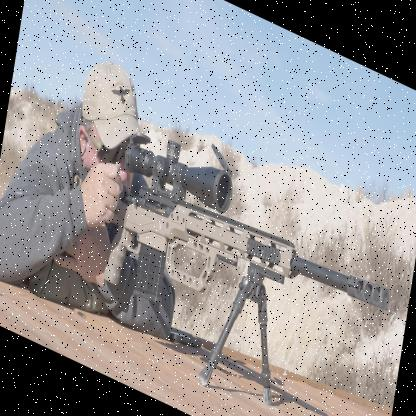rifle: (103, 133, 399, 409)
